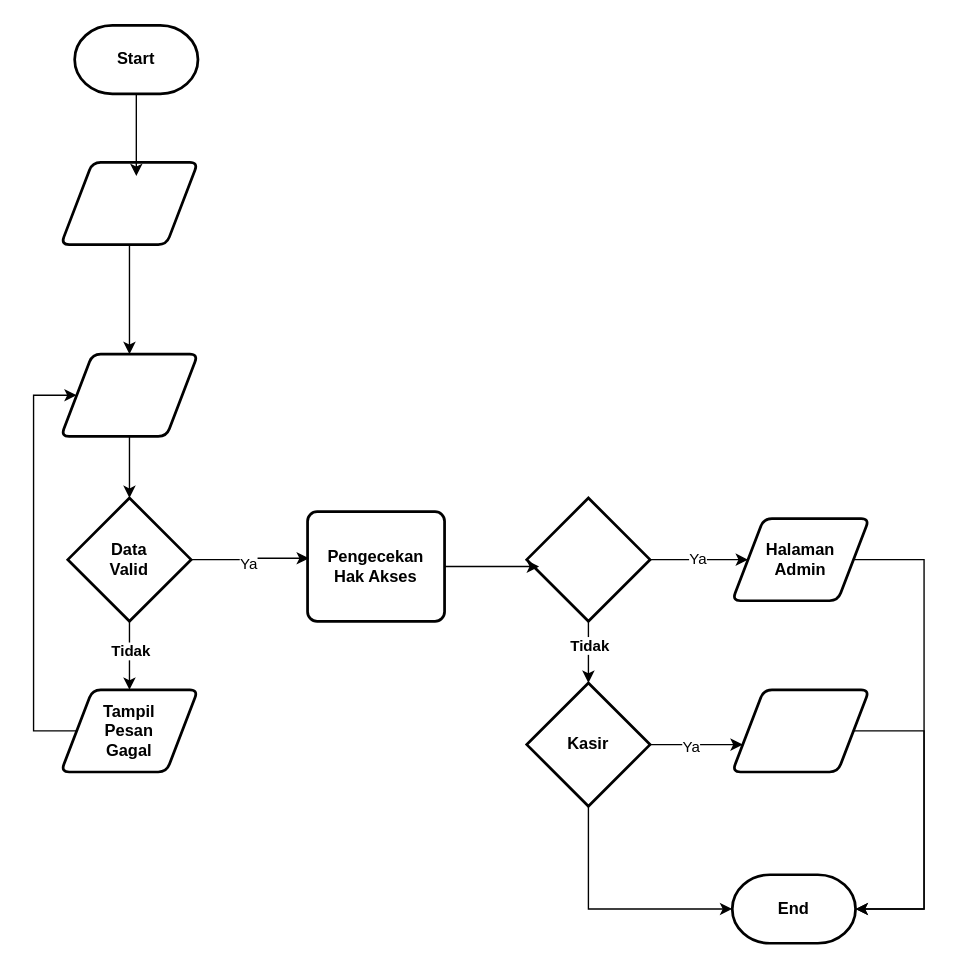
This 959x967 diagram has some shape labels left out. The shapes that lost their labels are listed below. From the top down, each one's box as (x1, y1, x2, y2) in pixels, then its label:
(59, 160, 199, 245): Halaman Login
(59, 352, 199, 437): Input User & Password
(525, 496, 651, 622): Admin?
(730, 688, 870, 773): Halaman Kasir
